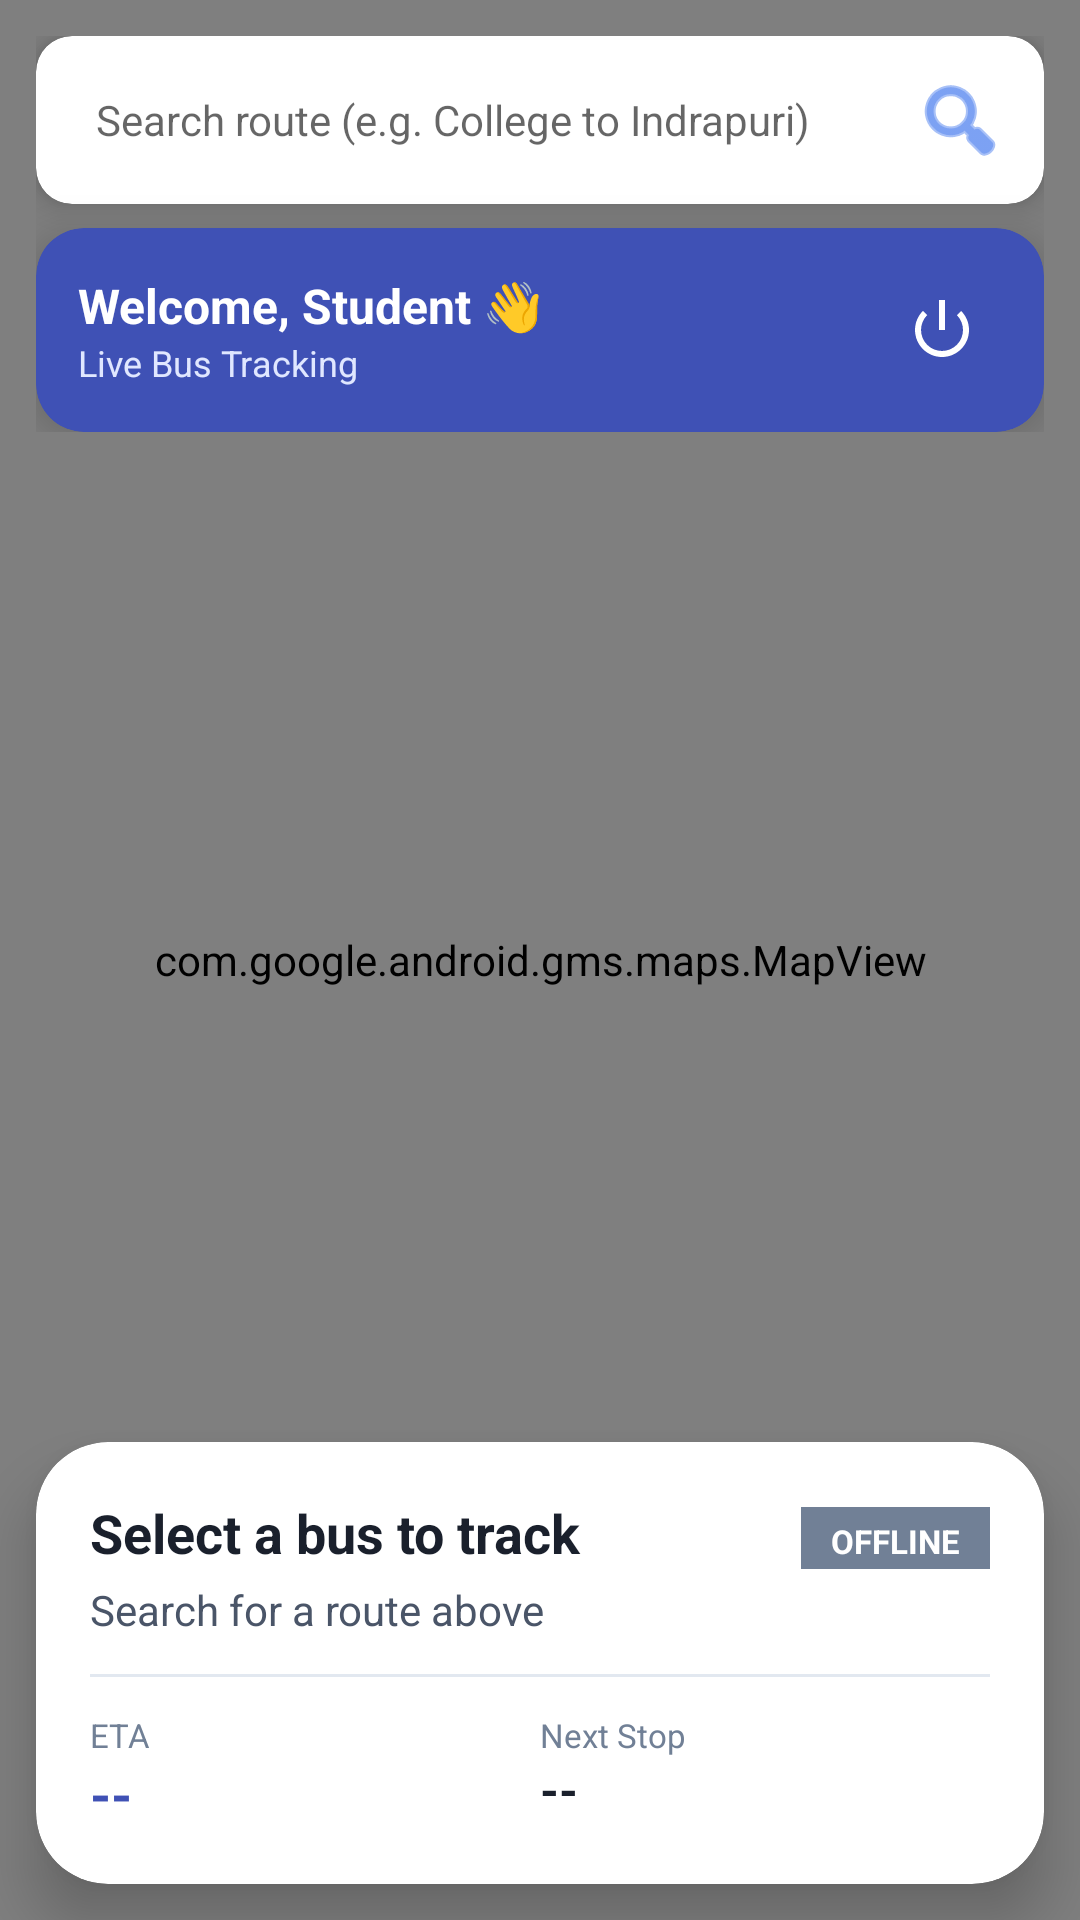

Point at icon controls on the screen. Image size 1080 × 1920, points as (x,y).
lock power off: (942,328)
